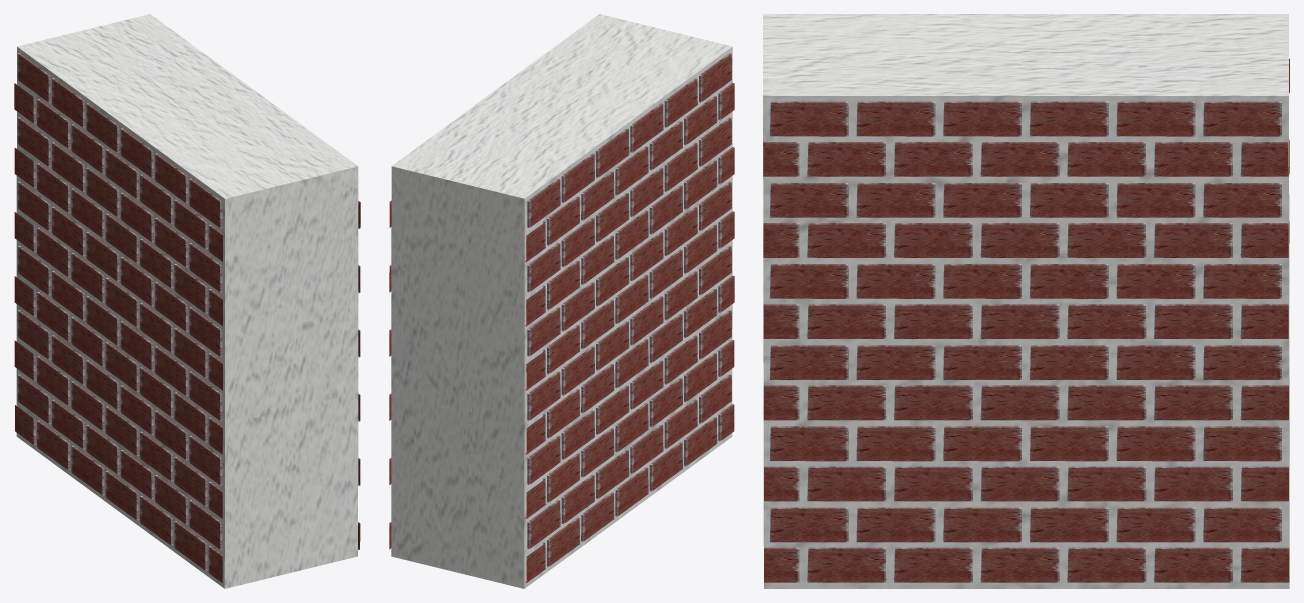
File: wall_unit.glb
3 views of the same model, side by side, from view 1: azimuth 30°, elevation 25°; view 2: azimuth 150°, elevation 25°; view 3: azimuth 270°, elevation 25° (orthographic). The views are drawn at different scales.
Parts seen in each view (by area): view 1: Cube, Face2, Face1; view 2: Cube, Face2, Face1; view 3: Face1, Cube.
Part boxes in pixels (x1,y1,x2,y2): Cube: (16,14,358,588); Face2: (14,53,224,583); Face1: (358,201,360,550); Cube: (391,14,732,588); Face2: (524,53,734,582); Face1: (389,200,391,549); Face1: (763,101,1289,582); Cube: (763,14,1289,588).
Bounding box in the file's own units: 0.7629 × 2.07 × 2.
3 materials, 3 textured.
